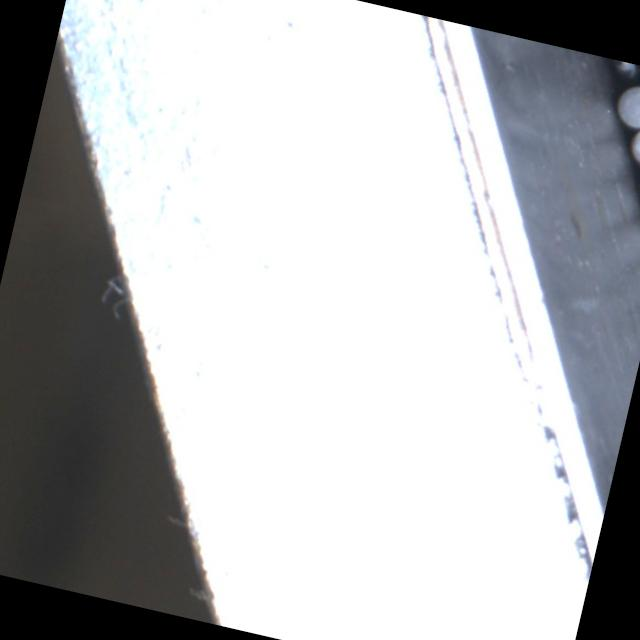tool: (614, 81, 640, 130), (628, 121, 640, 167)
tool_b: (599, 57, 640, 81)
